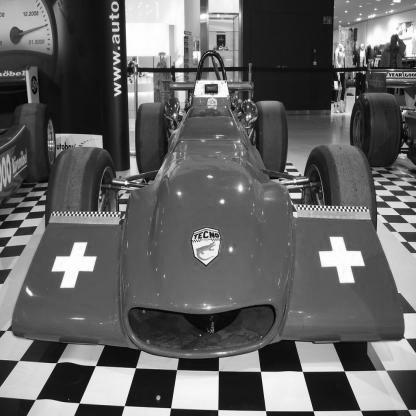car: (13, 54, 408, 371)
